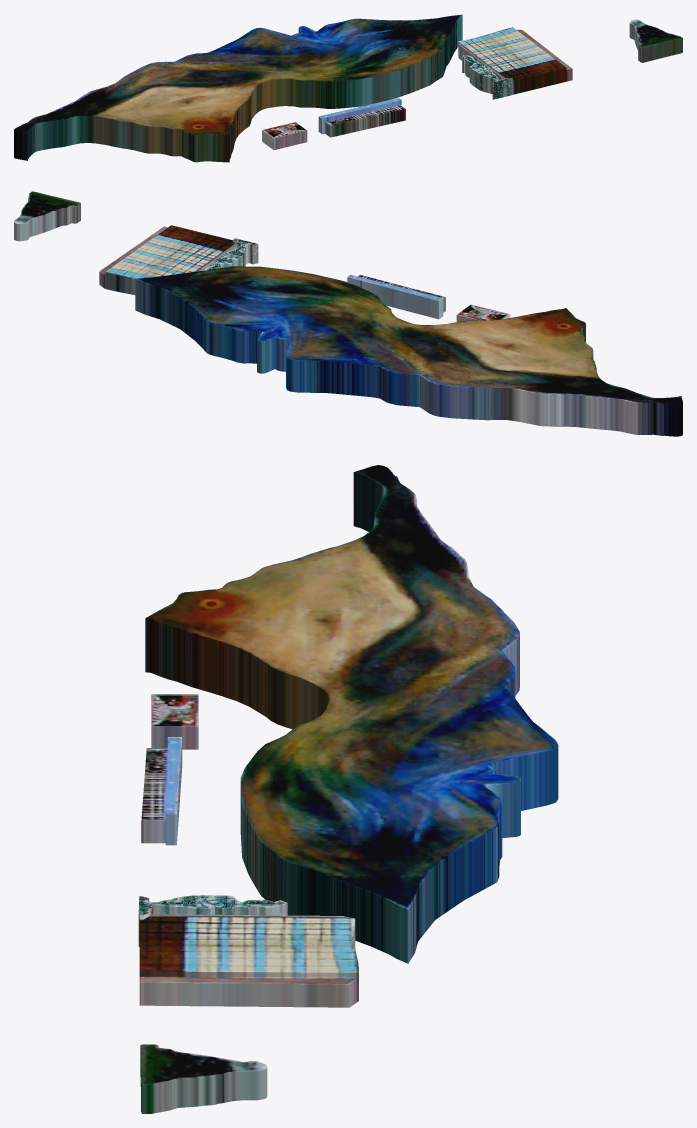
File: muro el despertar del gigante 3.dae
The picture shows the model from 3 angles, top to bottom: view 1: azimuth 30°, elevation 25°; view 2: azimuth 150°, elevation 25°; view 3: azimuth 270°, elevation 25°; orthographic projection. The views are drawn at different scales.
Parts seen in each view (by area): view 1: SketchUp (×5); view 2: SketchUp (×5); view 3: SketchUp (×5).
Boxes of the visible parts, <box> form: SketchUp (×5): <box>14,14,682,162</box>; SketchUp (×5): <box>14,191,682,436</box>; SketchUp (×5): <box>138,465,558,1113</box>.
Size of the model in its own units: 79.55 by 23.72 by 3.38.
2 materials, 1 textured.
